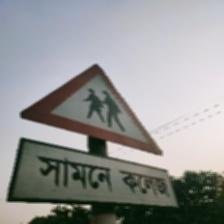College-in-front: (0, 53, 207, 221)
